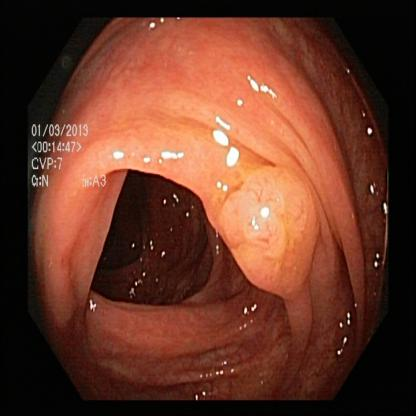Labels: (30, 116, 112, 200)
Polyps: (208, 162, 345, 300)
